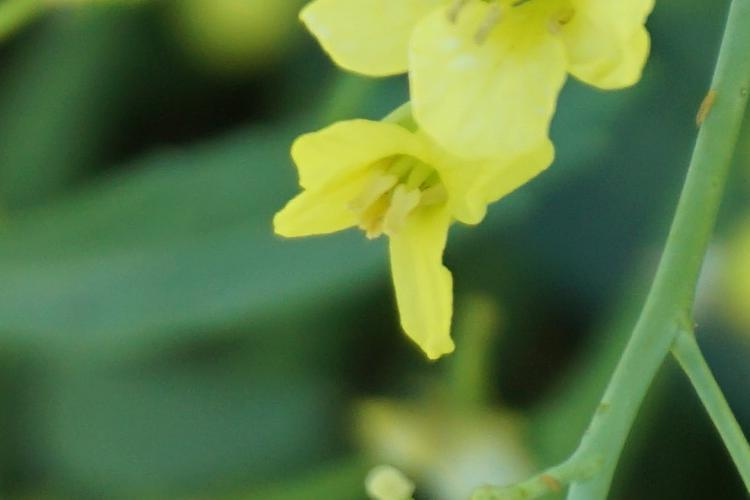yellow: (269, 106, 580, 365), (298, 3, 667, 132)
